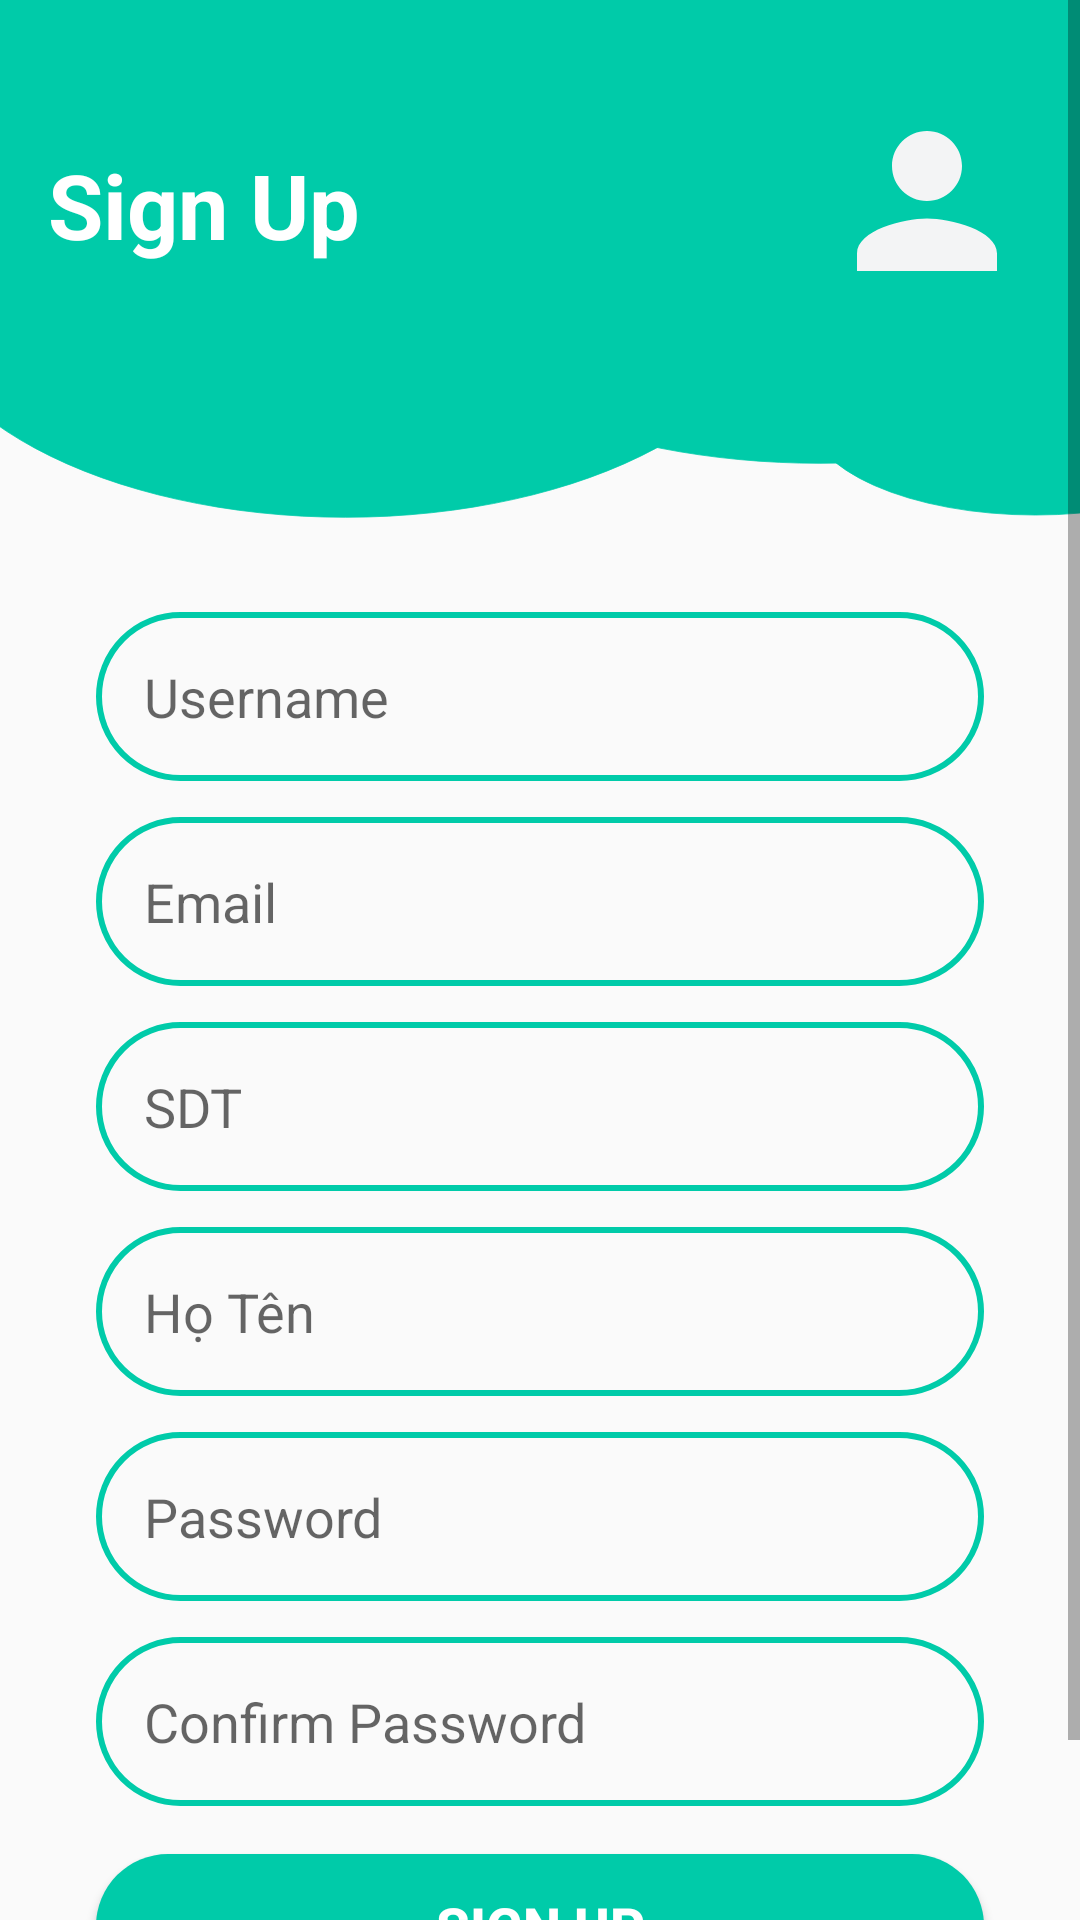

Locate icon controls on the screen. Image size 1080px x 1920px, boxes as (x1, y1, x2, y2).
person: (857, 131, 997, 271)
